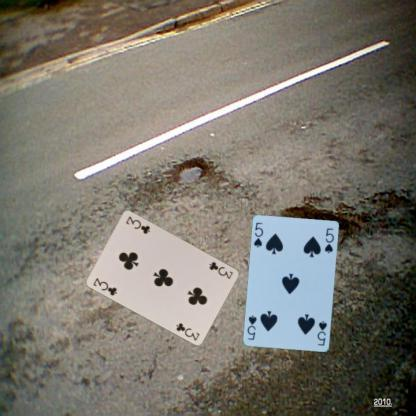3c: (206, 258, 234, 280), (90, 275, 118, 297)
5s: (314, 318, 328, 347), (251, 220, 265, 249)
